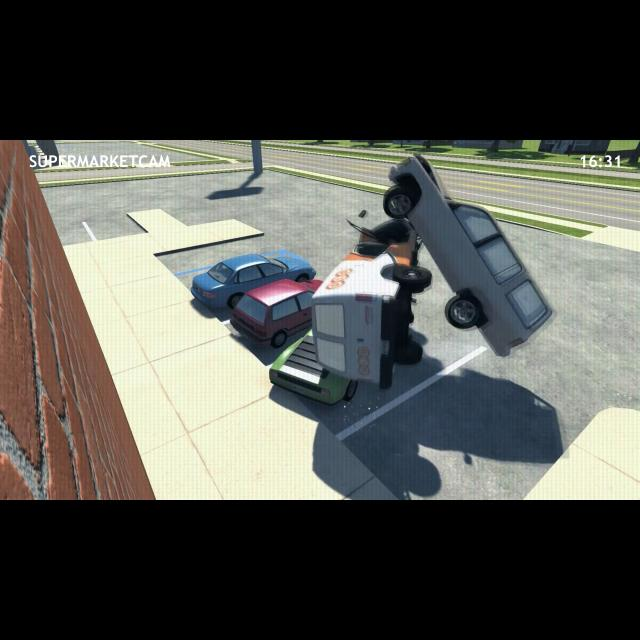accident: (286, 153, 561, 410)
